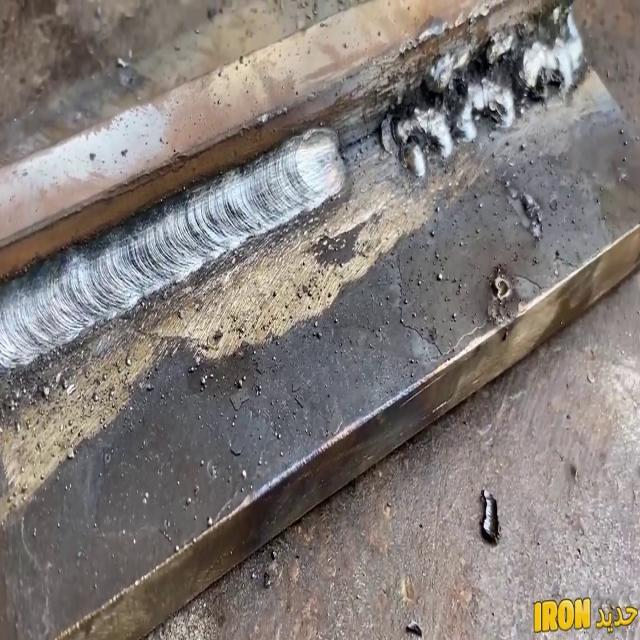Dry Waste: (392, 66, 595, 222)
